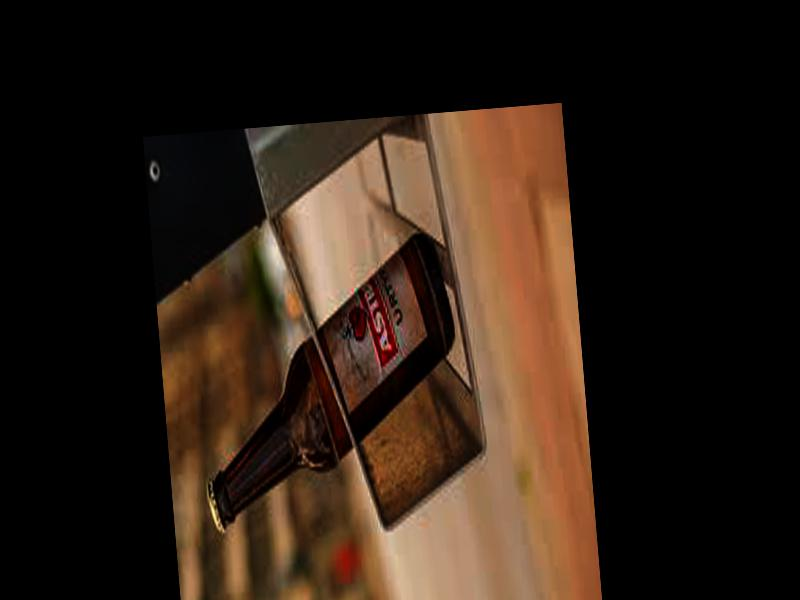Beer: (186, 228, 469, 536)
